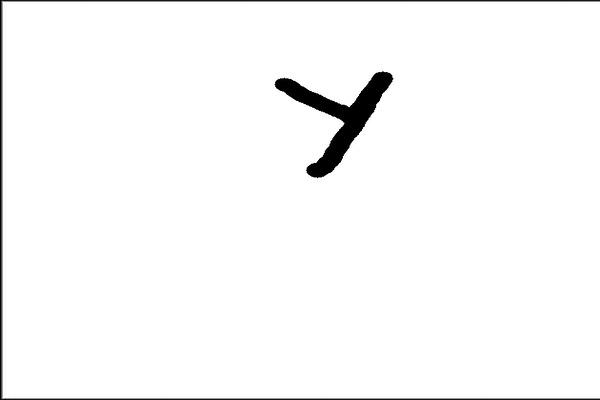Y: (262, 63, 409, 186)
